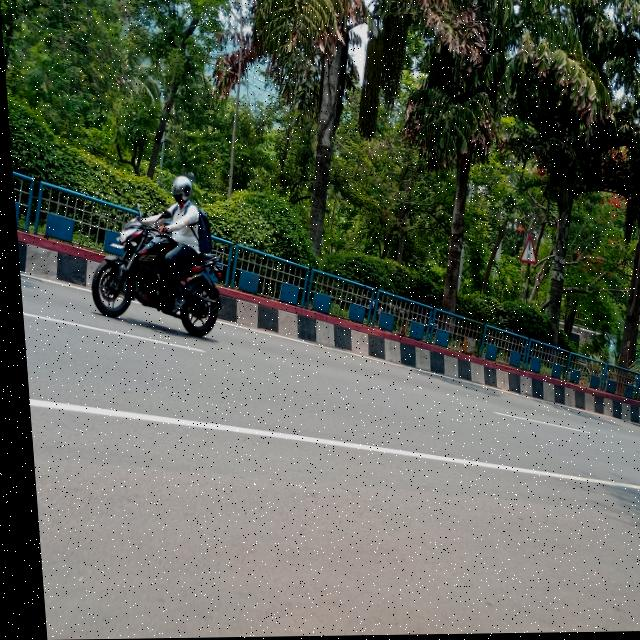bike: (88, 215, 221, 338)
